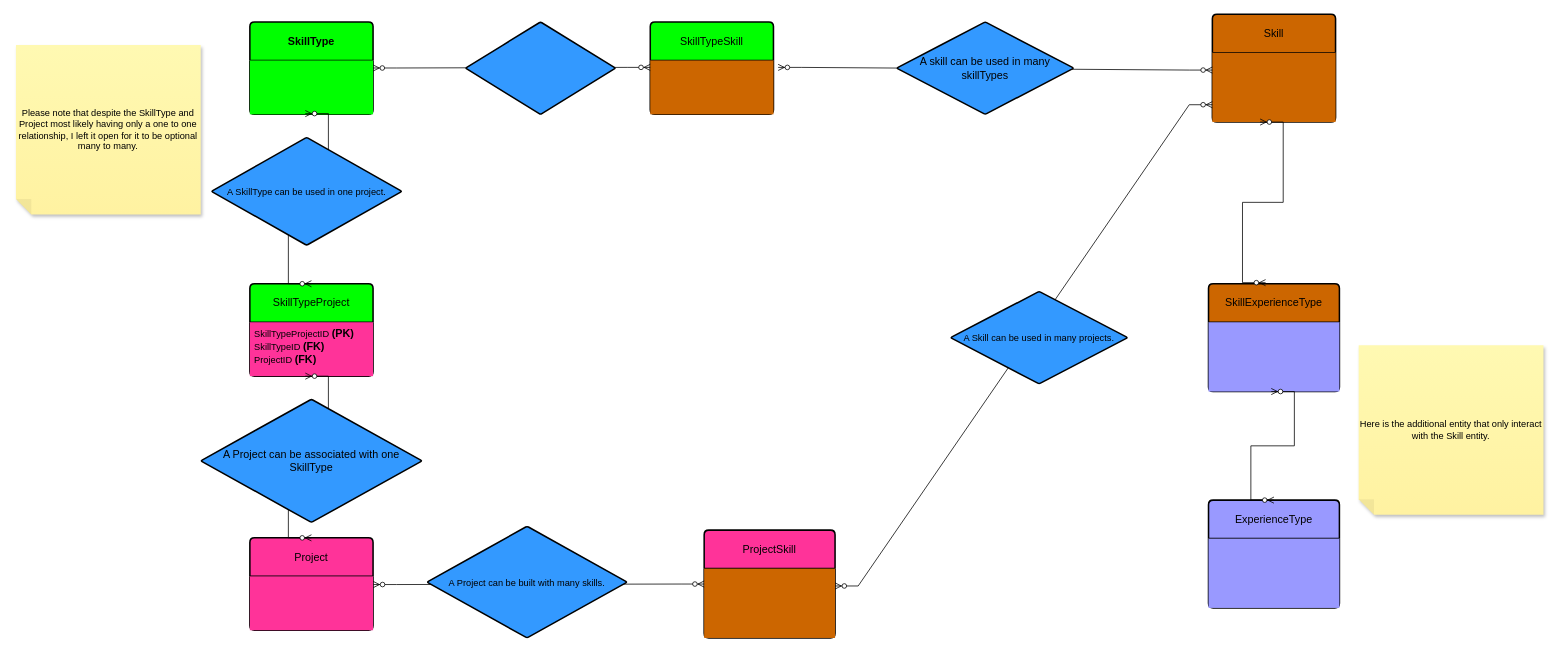
Some shapes in this 1562 by 651 pixel diagram are drawn without their labels. Here are the shapes that lost their labels. From the top down, the centre of each, then its label:
pixel 311 87: SkillTypeID (PK) SkillTypeName
pixel 540 68: A SkillType can have many skills.
pixel 711 87: SkillTypeSkillID (PK) SkillTypeID (FK) SkillID (FK)
pixel 1273 87: SkillID (PK) SkillName Icon YearsOfExperience ExperienceType
pixel 1273 356: SkillExperienceTypeID (PK) SkillID (FK) ExperienceTypeID (FK)
pixel 1273 573: ExperienceTypeID (PK) ExperienceTypeName
pixel 311 603: ProjectID (PK) ProjectName Description
pixel 769 603: ProjectSkillID (PK) ProjectID (FK) SkillID (FK)
